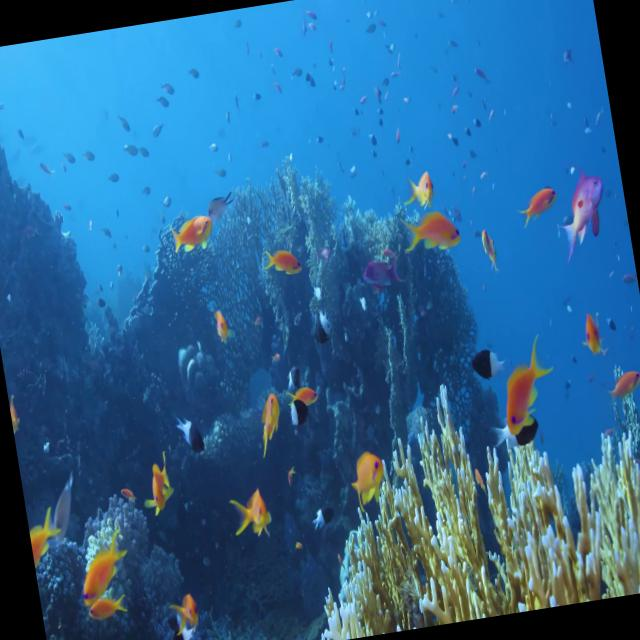fish: (484, 324, 562, 448), (69, 517, 142, 602), (549, 160, 613, 252), (339, 436, 396, 518), (245, 380, 298, 462), (396, 210, 466, 266), (136, 450, 187, 524), (26, 499, 76, 571), (220, 484, 279, 542), (396, 159, 446, 220), (511, 182, 564, 235), (468, 327, 511, 388), (168, 405, 210, 466), (164, 213, 217, 261), (354, 252, 406, 300), (573, 305, 608, 365), (472, 214, 503, 280), (602, 363, 640, 415), (304, 296, 342, 346), (260, 235, 301, 278), (204, 302, 242, 348), (286, 381, 320, 429), (82, 590, 126, 626), (174, 600, 203, 638), (166, 609, 199, 640), (294, 370, 322, 404)
